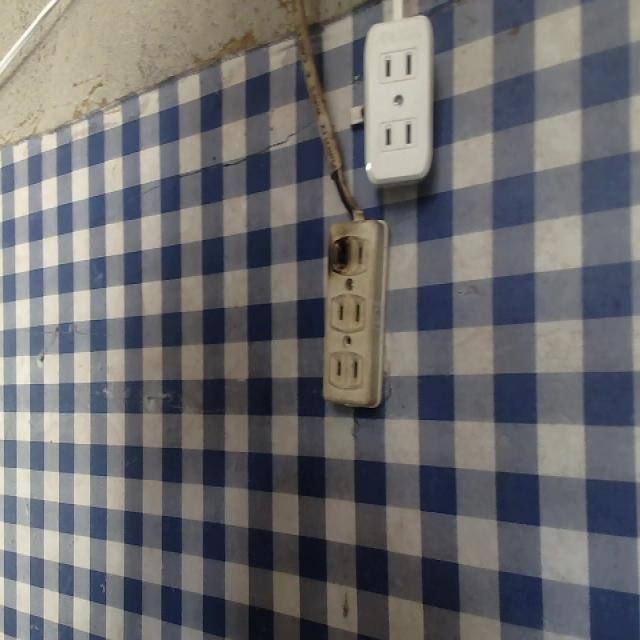-: (324, 234, 354, 278)
